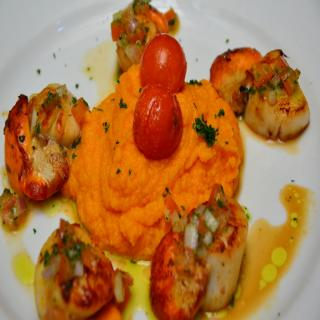tomato: (132, 84, 182, 157), (142, 33, 189, 93)
